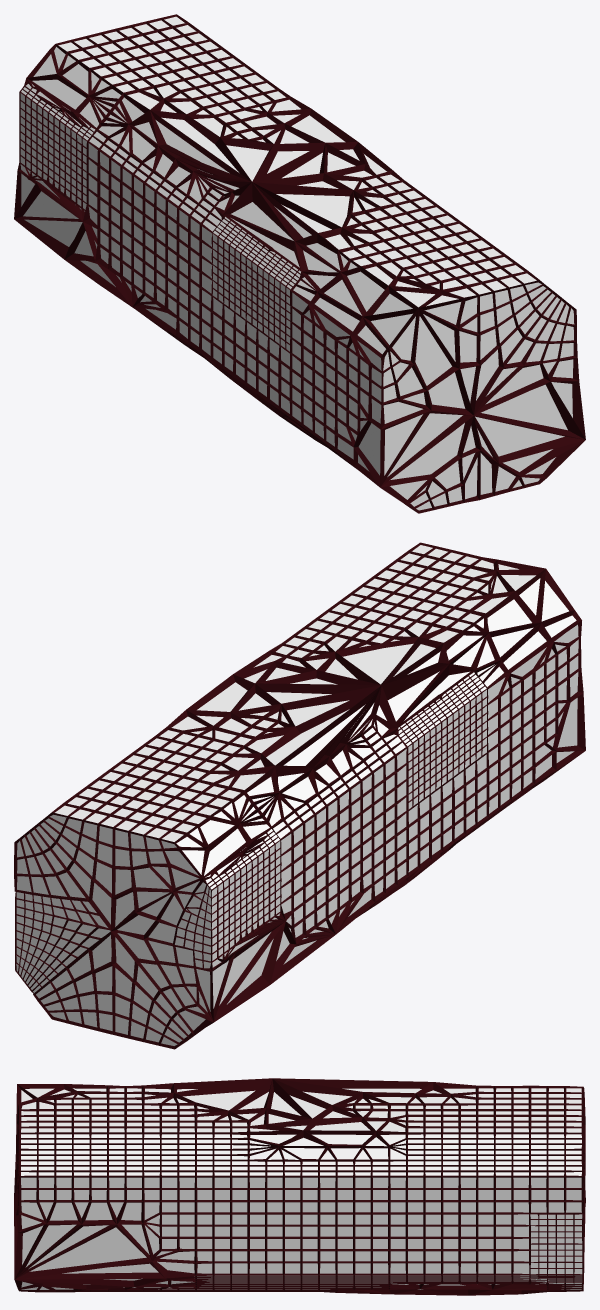
The model's file is Cube - debris.fbx.
3 views of the same model, one above another, from view 1: azimuth 30°, elevation 25°; view 2: azimuth 150°, elevation 25°; view 3: azimuth 270°, elevation 25° (orthographic). The views are drawn at different scales.
Visible parts, largest first — view 1: Cube.001; view 2: Cube.001; view 3: Cube.001.
Boxes of the visible parts, bbox=[...] form: Cube.001: bbox=[14, 14, 585, 513]; Cube.001: bbox=[14, 542, 585, 1049]; Cube.001: bbox=[14, 1078, 585, 1295].
Size of the model in its own units: 2.14 by 2.17 by 6.61.
